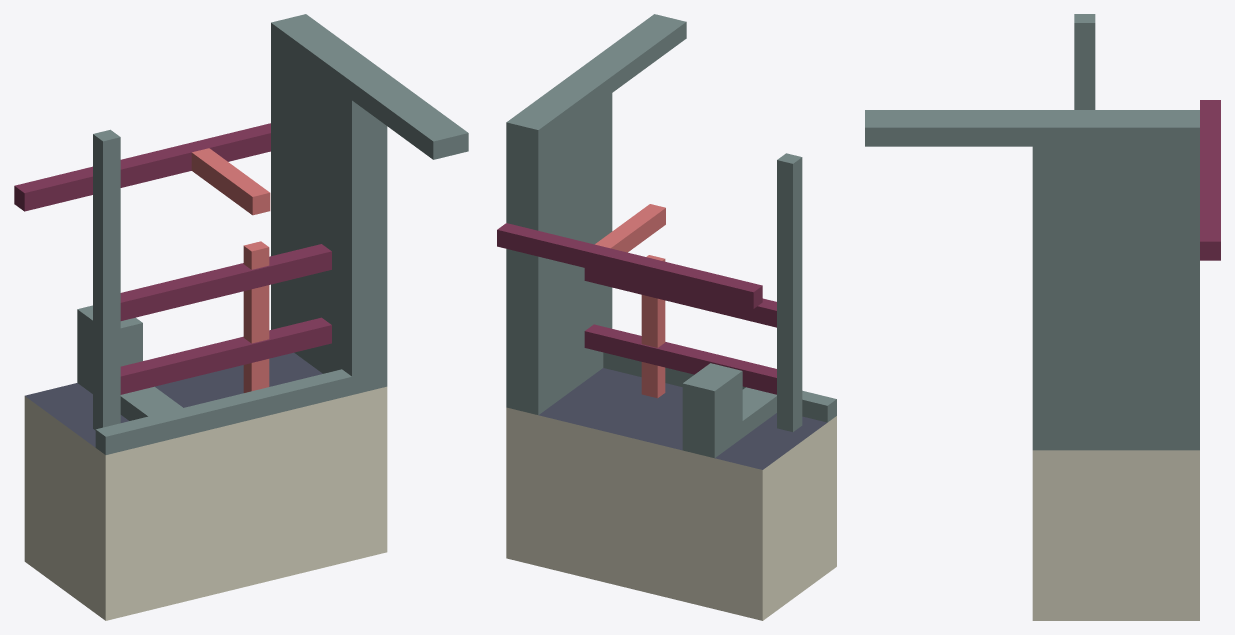
Rendered from Skeleton2.002.fbx.
3 renders of one model, left to right at view 1: azimuth 30°, elevation 25°; view 2: azimuth 150°, elevation 25°; view 3: azimuth 270°, elevation 25°, orthographic. The views are drawn at different scales.
Visible parts, largest first — view 1: Skeleton2.002; view 2: Skeleton2.002; view 3: Skeleton2.002.
Boxes of the visible parts, <box> form: Skeleton2.002: <box>14,14,468,620</box>; Skeleton2.002: <box>497,14,836,620</box>; Skeleton2.002: <box>865,14,1220,620</box>.
Size of the model in its own units: 1600 by 2600 by 1700.
